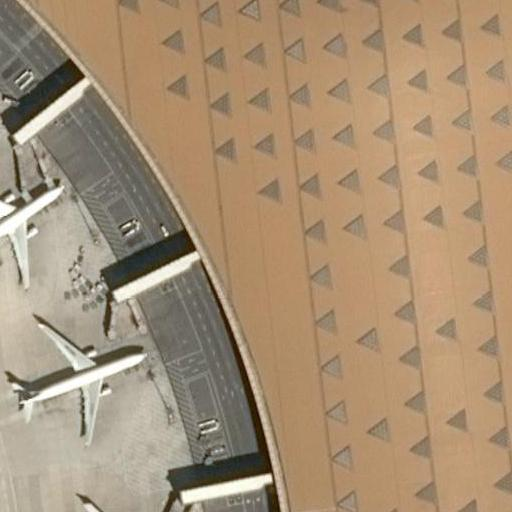Aircraft: (0, 312, 158, 429), (0, 151, 76, 289), (33, 492, 204, 512)
